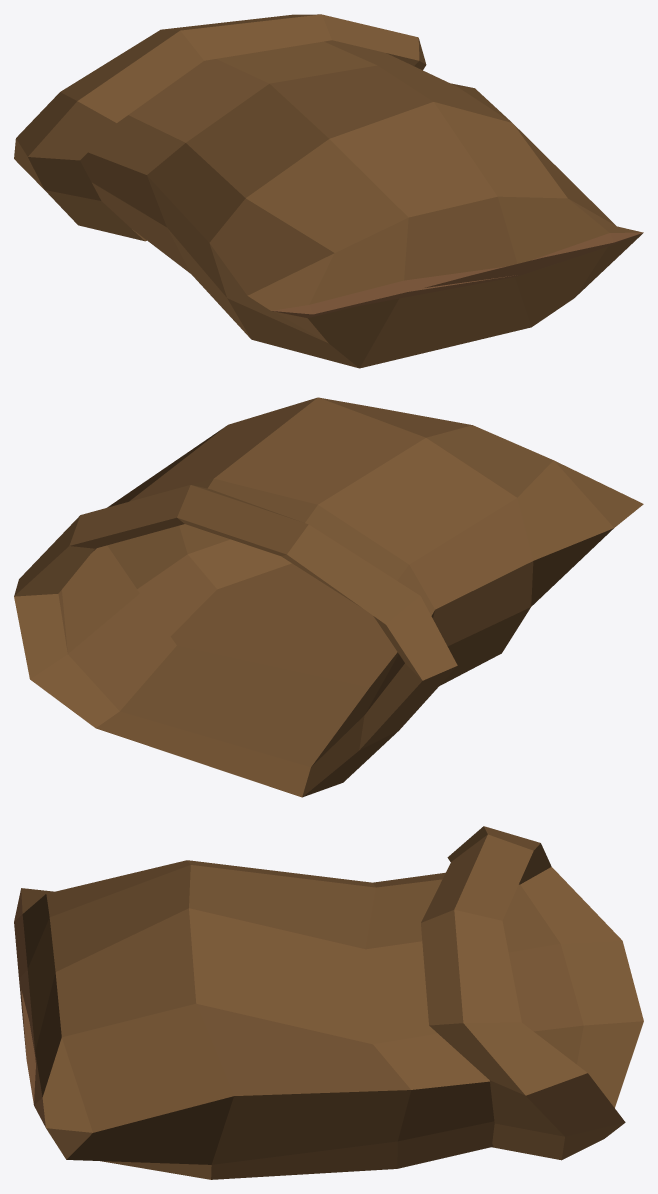
File: bag_lying.fbx
3 renders of one model, top to bottom at view 1: azimuth 30°, elevation 25°; view 2: azimuth 150°, elevation 25°; view 3: azimuth 270°, elevation 25°, orthographic. The views are drawn at different scales.
Visible parts, largest first — view 1: bag_lying; view 2: bag_lying; view 3: bag_lying.
Boxes of the visible parts, x1,y1,x2,y2 form: bag_lying: [14, 14, 643, 368]; bag_lying: [14, 397, 643, 797]; bag_lying: [14, 826, 643, 1179].
Size of the model in its own units: 47.12 by 22 by 54.1.
